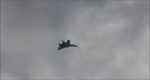maybay_muctieu: (54, 39, 79, 51)
